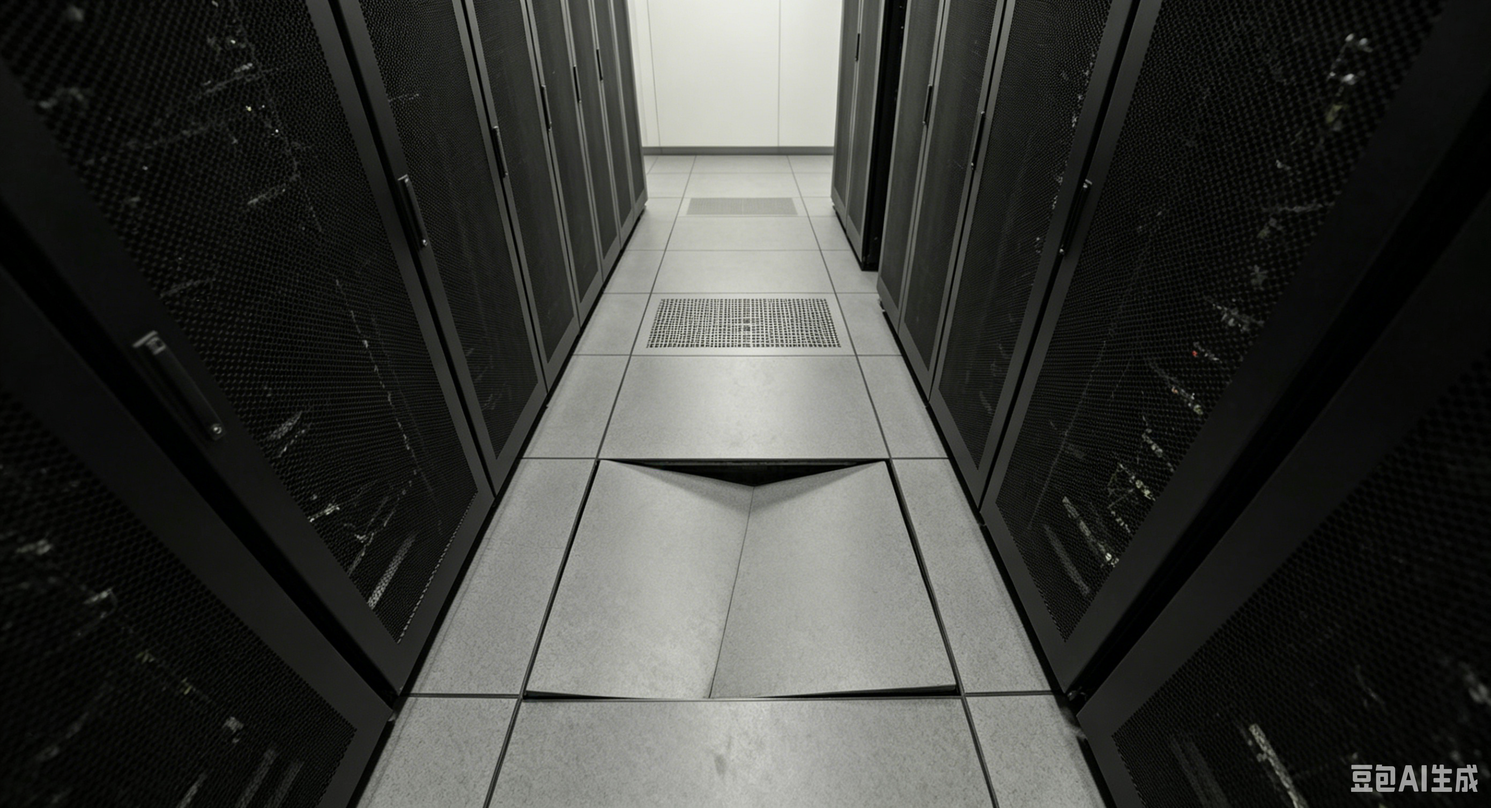floor_defect: (515, 460, 966, 706)
